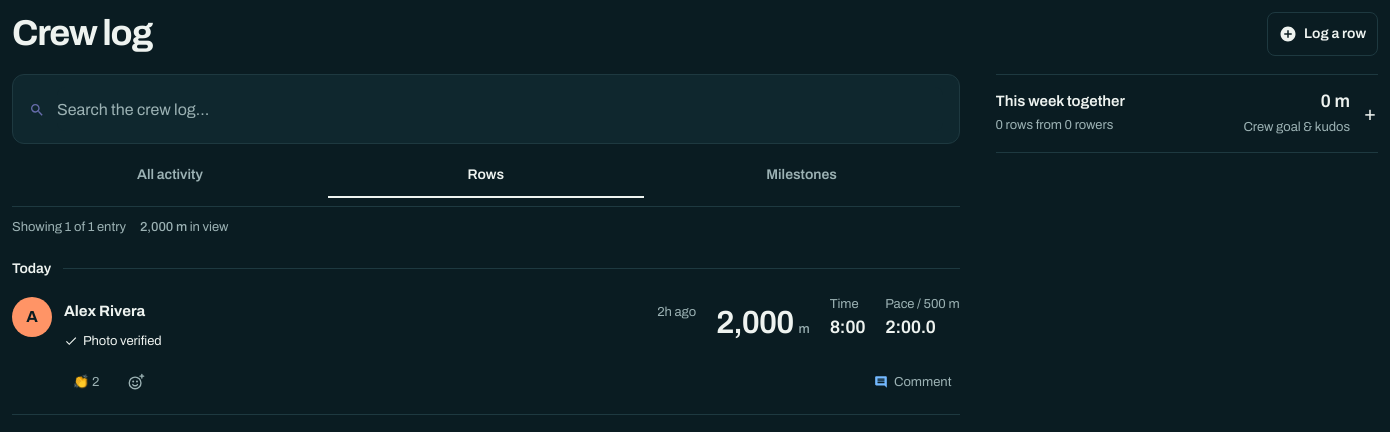
Test: labels and trims search, resets pagination, and exposes the selected activity filter
The width and height of the screenshot is (1390, 432).
In the search field with id "crew-log-search": (500, 109) [57,87,942,131], type "  Alex  "
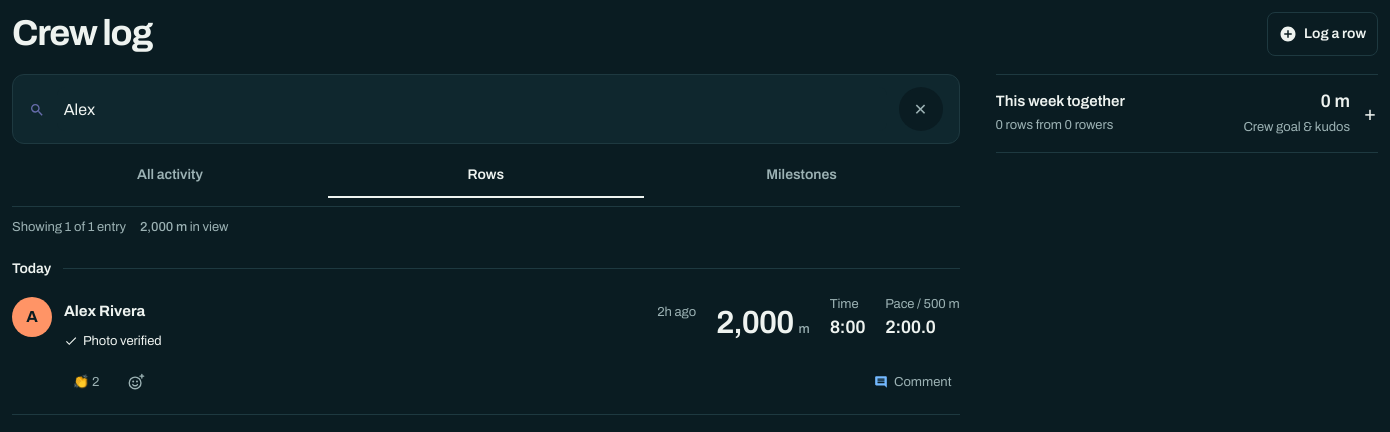
Click the button "Milestones": click(802, 176) [644,154,960,198]
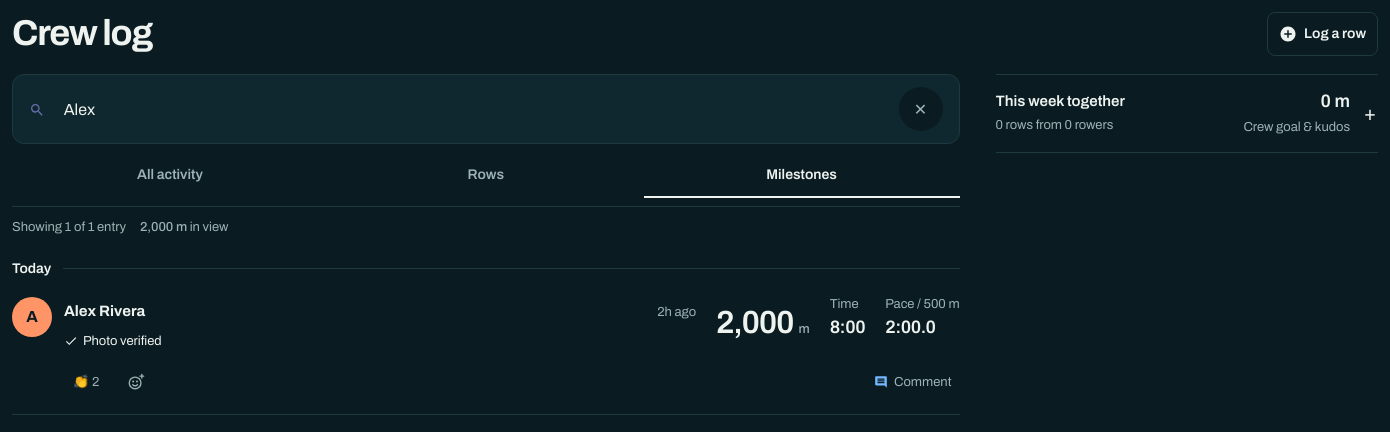
Check: the button "Milestones" is pressed, box [644,154,960,198]
Click the button "✕": click(920, 109) [898,87,942,131]
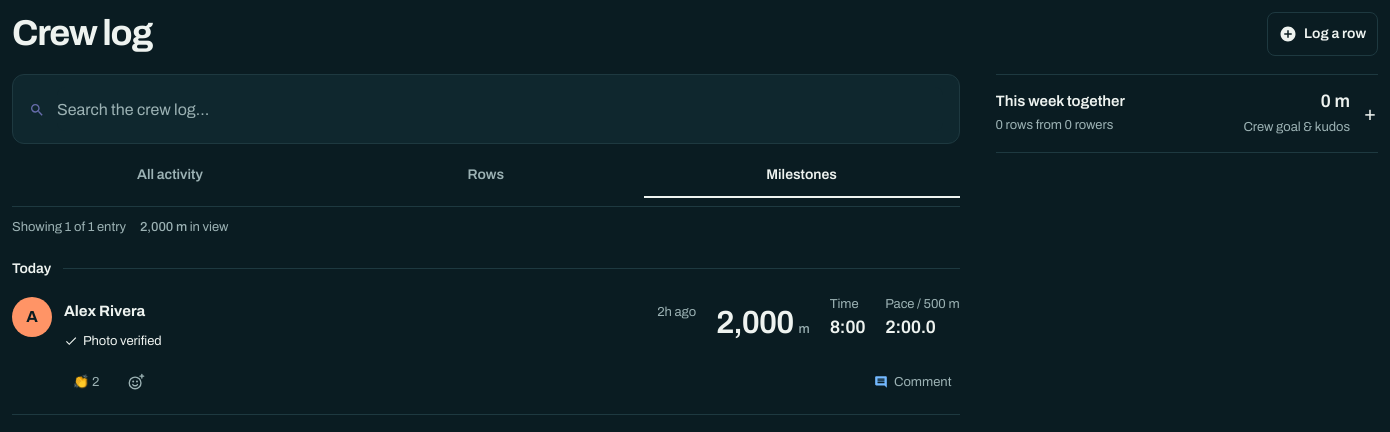
Check: the search field with id "crew-log-search" is empty, box [57,87,942,131]
